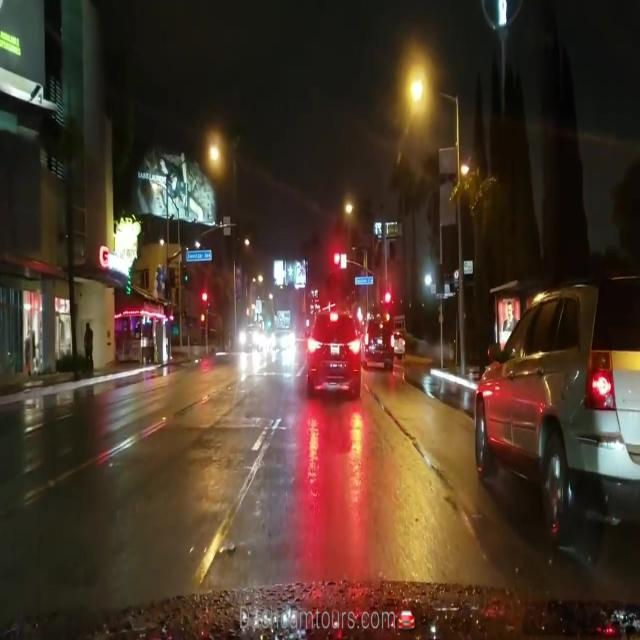Car: (476, 288, 639, 538), (304, 306, 362, 393), (364, 316, 392, 367)
